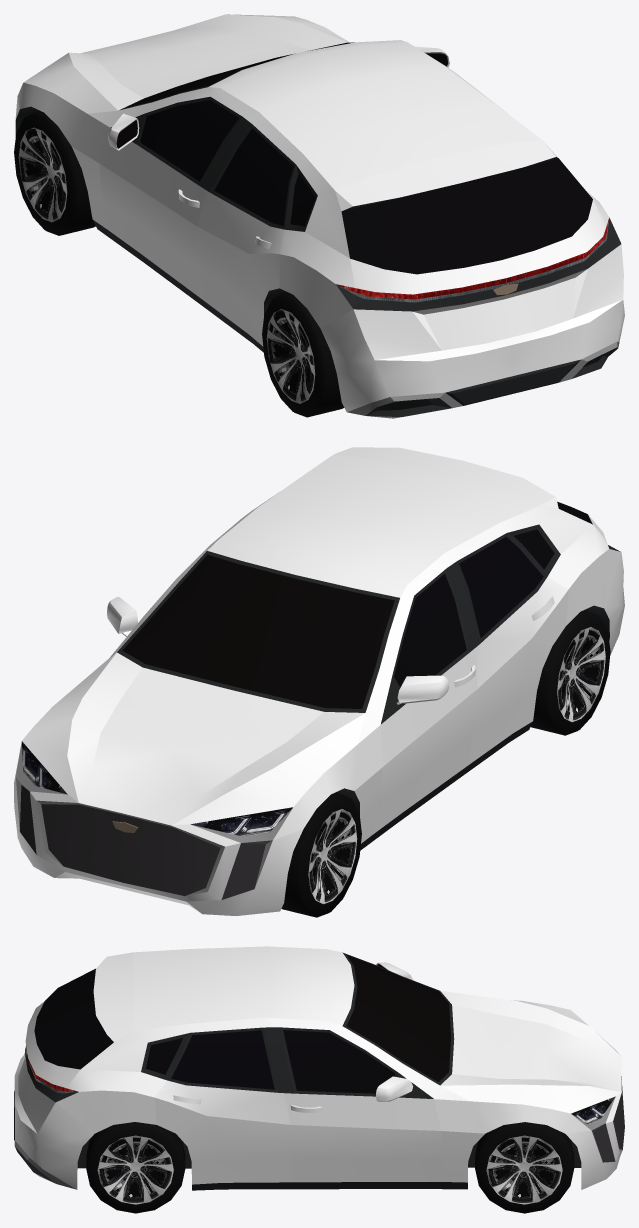
Rendered from aq-hatchback.glb.
The picture shows the model from 3 angles, top to bottom: view 1: azimuth 30°, elevation 25°; view 2: azimuth 150°, elevation 25°; view 3: azimuth 270°, elevation 25°; orthographic projection. The views are drawn at different scales.
Visible parts, largest first — view 1: hatchback-paint.008, hatchback-windows.008, hatchback-blackparts.008, hatchback-tire.032, hatchback-tire.031, hatchback-rim.032, hatchback-rim.033, hatchback-taillights.008, hatchback-silvertrim.007, hatchback-headlights.014; view 2: hatchback-paint.008, hatchback-windows.008, hatchback-grills.008, hatchback-blackparts.008, hatchback-tire.031, hatchback-tire.032, hatchback-rim.033, hatchback-rim.032, hatchback-silvertrim.007, hatchback-headlights.013; view 3: hatchback-paint.008, hatchback-windows.008, hatchback-blackparts.008, hatchback-rim.035, hatchback-rim.034, hatchback-tire.034, hatchback-tire.033, hatchback-grills.008, hatchback-silvertrim.007, hatchback-headlights.013.
Boxes of the visible parts, x1,y1,x2,y2 form: hatchback-paint.008: (15, 14, 624, 411); hatchback-windows.008: (116, 42, 592, 274); hatchback-blackparts.008: (15, 57, 621, 416); hatchback-tire.032: (262, 292, 344, 417); hatchback-tire.031: (14, 111, 95, 235); hatchback-rim.032: (18, 127, 67, 222); hatchback-rim.033: (266, 309, 315, 403); hatchback-taillights.008: (336, 218, 609, 299); hatchback-silvertrim.007: (347, 341, 619, 418); hatchback-headlights.014: (337, 219, 609, 302); hatchback-paint.008: (14, 447, 624, 915); hatchback-windows.008: (122, 501, 592, 708); hatchback-grills.008: (20, 785, 265, 899); hatchback-blackparts.008: (117, 524, 620, 850); hatchback-tire.031: (281, 792, 361, 917); hatchback-tire.032: (530, 610, 610, 735); hatchback-rim.033: (557, 627, 605, 722); hatchback-rim.032: (308, 809, 357, 904); hatchback-silvertrim.007: (16, 639, 617, 895); hatchback-headlights.013: (22, 741, 292, 836); hatchback-paint.008: (14, 946, 622, 1189); hatchback-windows.008: (34, 955, 450, 1093); hatchback-blackparts.008: (14, 952, 581, 1190); hatchback-rim.035: (97, 1135, 173, 1204); hatchback-rim.034: (486, 1135, 562, 1204); hatchback-tire.034: (86, 1122, 185, 1213); hatchback-tire.033: (475, 1122, 574, 1213); hatchback-grills.008: (593, 1076, 624, 1162); hatchback-silvertrim.007: (14, 1097, 621, 1189); hatchback-headlights.013: (571, 1096, 615, 1124).
Size of the model in its own units: 2.07 by 1.38 by 4.16.
9 materials, 6 textured.
